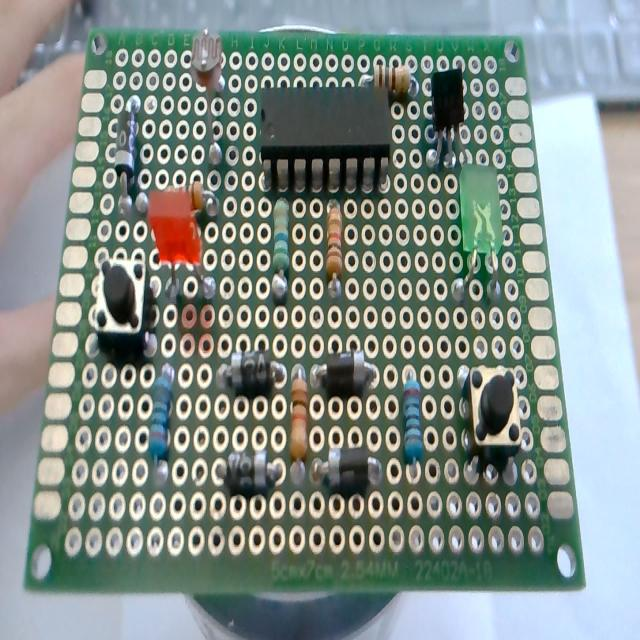IC: (258, 83, 390, 192)
cds: (191, 28, 226, 164)
diode: (313, 446, 381, 498), (218, 349, 287, 398), (311, 351, 377, 400), (113, 99, 141, 213), (224, 449, 281, 500)
led: (146, 185, 212, 305), (457, 163, 502, 304)
resistor: (148, 364, 174, 464), (290, 366, 310, 480), (272, 196, 290, 302), (325, 200, 344, 300), (403, 373, 423, 467), (375, 62, 412, 99)
switch: (91, 252, 151, 360), (463, 364, 522, 463)
transistor: (429, 66, 465, 170)
